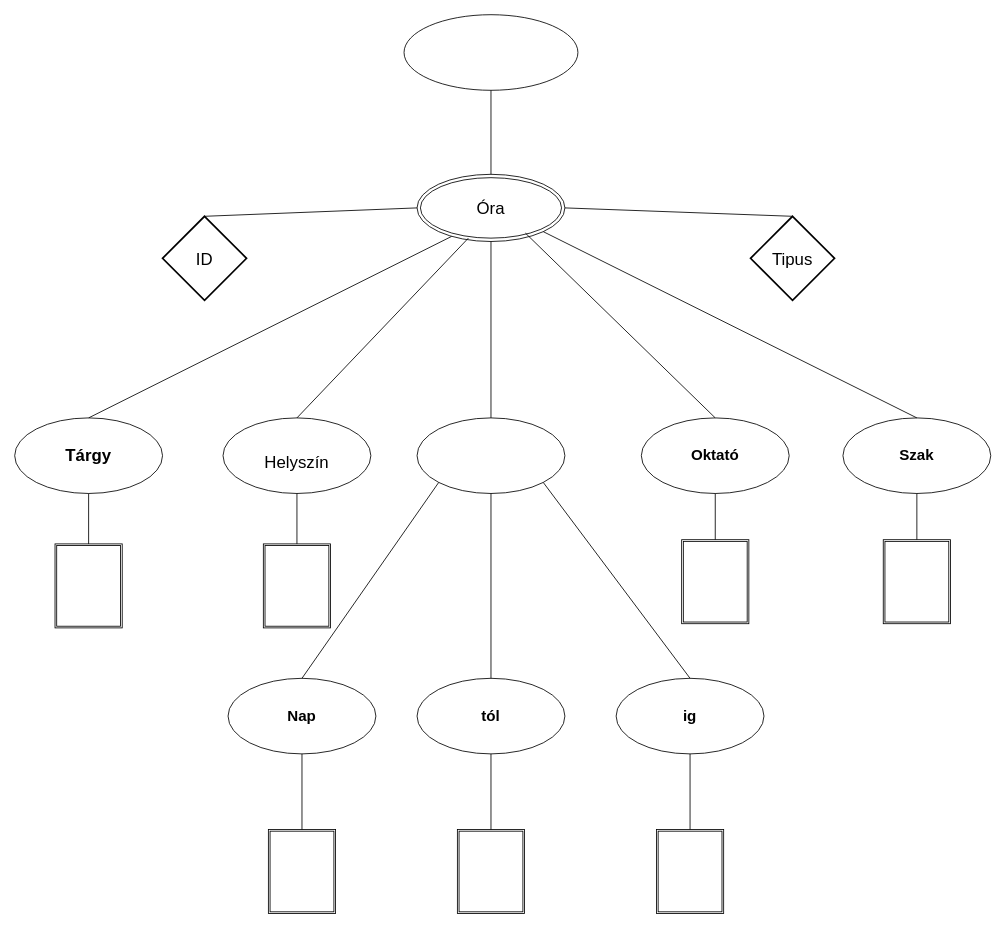
Some shapes in this 1005 by 928 pixel diagram are drawn without their labels. The centre of each missing label's shape, as x and y in pixels:
"Időpont" belongs at [490,455].
"IFQJS9_ orarend" belongs at [490,52].
